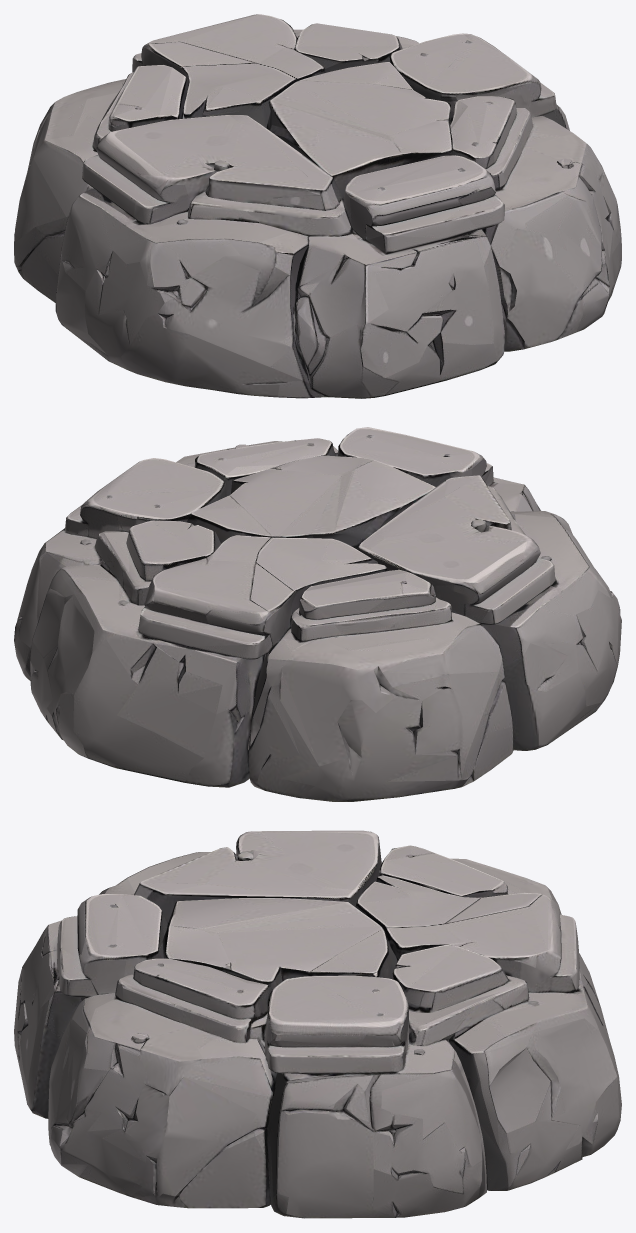
Rendered from jungle-rock-plateau.glb.
The picture shows the model from 3 angles, top to bottom: view 1: azimuth 30°, elevation 25°; view 2: azimuth 150°, elevation 25°; view 3: azimuth 270°, elevation 25°; orthographic projection. The views are drawn at different scales.
Visible parts, largest first — view 1: mesh_node; view 2: mesh_node; view 3: mesh_node.
Part boxes in pixels (box(x1,y1,x2,y2)): mesh_node: box(14, 14, 621, 398); mesh_node: box(14, 427, 621, 801); mesh_node: box(14, 830, 621, 1218).
Bounding box in the file's own units: 1.89 × 0.6041 × 1.9.
Materials: 1 (1 with a texture image).
